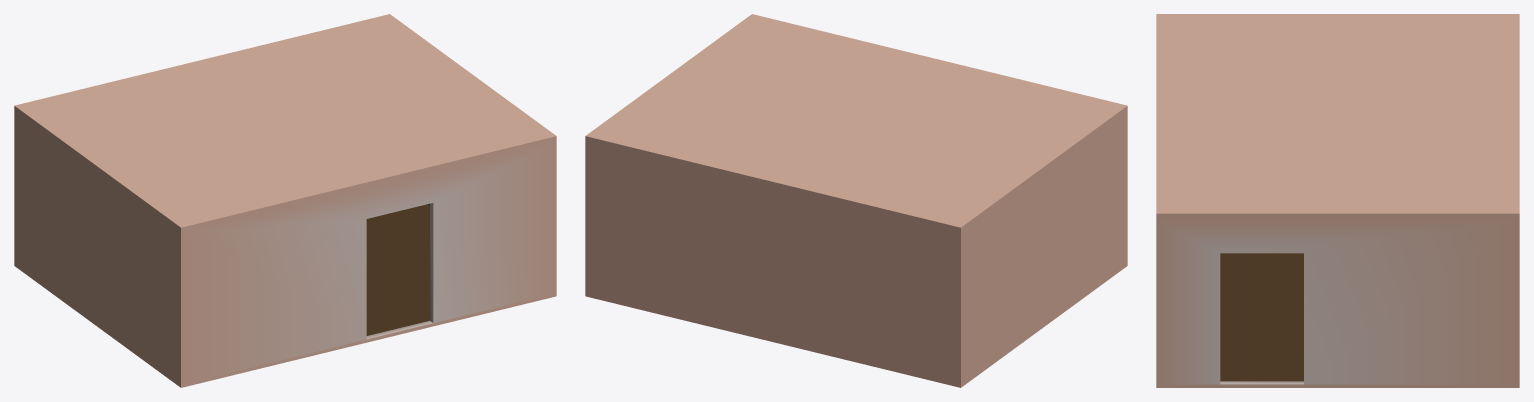
The model's file is walls.obj.
3 views of the same model, side by side, from view 1: azimuth 30°, elevation 25°; view 2: azimuth 150°, elevation 25°; view 3: azimuth 270°, elevation 25° (orthographic). The views are drawn at different scales.
Parts seen in each view (by area): view 1: extrudeSide, extrudeFront extrudeSide, floor, object 1; view 2: extrudeSide, extrudeFront extrudeSide, object 1; view 3: extrudeFront extrudeSide, extrudeSide, floor, object 1.
Boxes of the visible parts, box(x1,y1,x2,y2) form: extrudeSide: box(14, 106, 556, 384); extrudeFront extrudeSide: box(15, 14, 555, 227); floor: box(366, 204, 429, 335); object 1: box(14, 203, 556, 387); extrudeSide: box(585, 106, 1127, 384); extrudeFront extrudeSide: box(586, 14, 1126, 227); object 1: box(585, 263, 1127, 387); extrudeFront extrudeSide: box(1156, 14, 1519, 213); extrudeSide: box(1156, 213, 1519, 384); floor: box(1220, 253, 1303, 381); object 1: box(1156, 381, 1519, 387).
Size of the model in its own units: 1.3 by 0.53 by 1.
